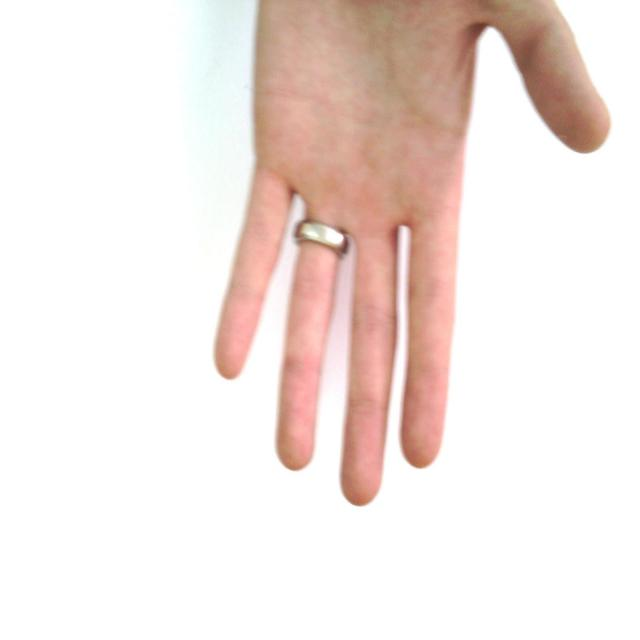others: (160, 0, 640, 510)
